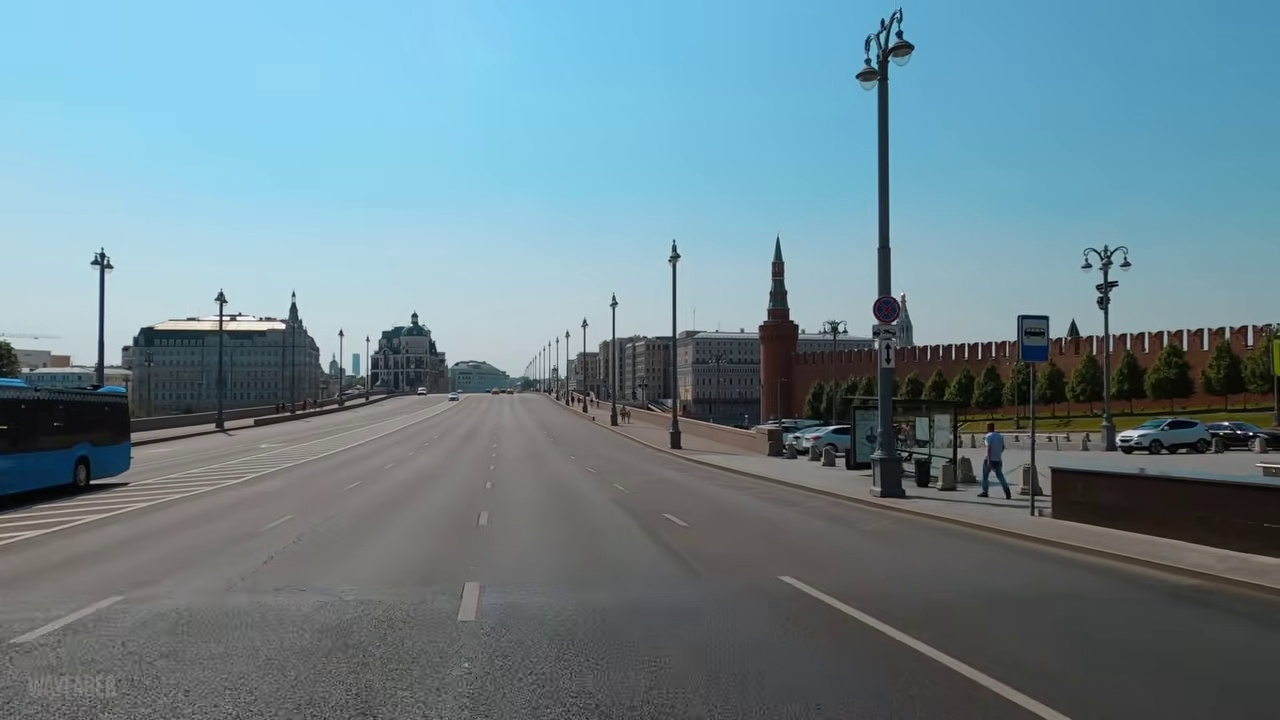apagada: (851, 33, 915, 91), (1081, 249, 1135, 307), (87, 250, 116, 281), (665, 244, 684, 268)
